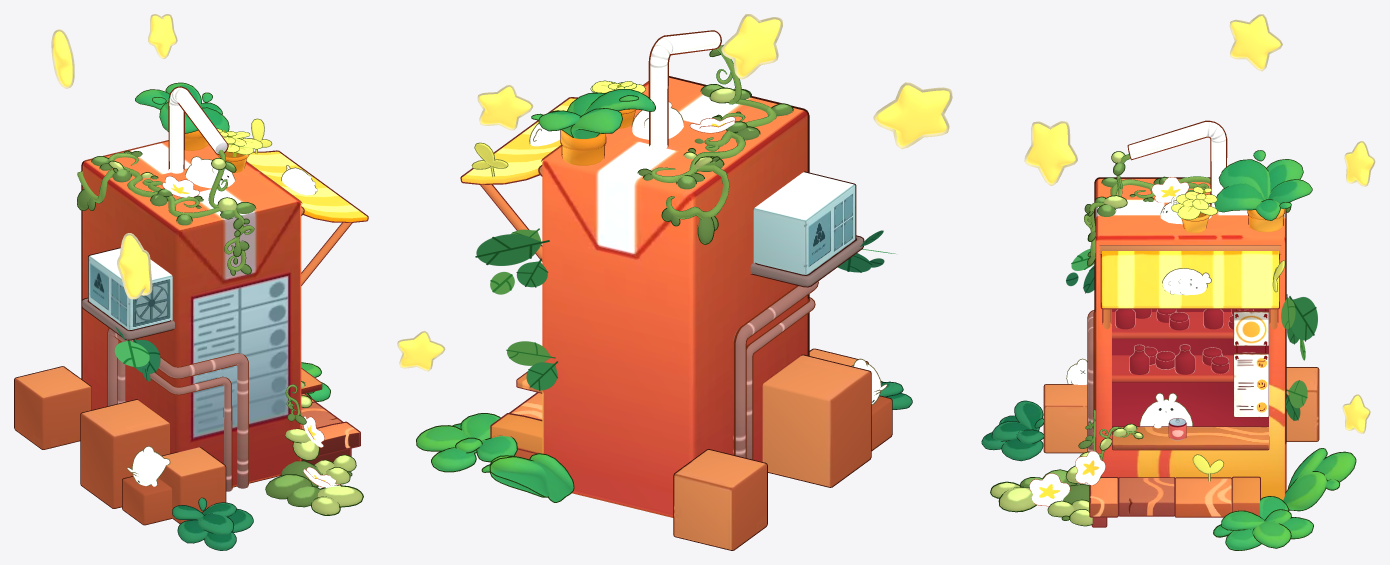
File: shop-transformed.glb
3 views of the same model, side by side, from view 1: azimuth 30°, elevation 25°; view 2: azimuth 150°, elevation 25°; view 3: azimuth 270°, elevation 25° (orthographic). The views are drawn at different scales.
Visible parts, largest first — view 1: Juice_Box, Plant_3, Box.002, Pipeline, Air-conditioning, Box.003, Box.001, Veg_1, Plant_2, Box, Star, Board.001 (+11 smaller); view 2: Juice_Box, Box.002, Air-conditioning, Box.003, Plant_3, Plant_2, Pipeline, Veg_2, Star, Veg_3, Star.003, Star.001 (+8 smaller); view 3: Juice_Box, Plant_3, Plant_2, Veg_2, Box.001, Veg_3, Veg_1, Board.003, Board.002, Star, Box.003, Star.003 (+15 smaller).
Part boxes in pixels (x1=…): Juice_Box: x1=81, y1=86, x2=368, y2=487; Plant_3: x1=77, y1=150, x2=363, y2=515; Box.002: x1=80, y1=399, x2=169, y2=508; Pipeline: x1=107, y1=328, x2=248, y2=491; Air-conditioning: x1=81, y1=247, x2=174, y2=340; Box.003: x1=14, y1=366, x2=91, y2=449; Box.001: x1=159, y1=447, x2=226, y2=523; Veg_1: x1=172, y1=497, x2=253, y2=550; Plant_2: x1=135, y1=82, x2=229, y2=150; Box: x1=122, y1=476, x2=171, y2=525; Star: x1=117, y1=233, x2=152, y2=299; Board.001: x1=301, y1=421, x2=360, y2=464; Juice_Box: x1=460, y1=30, x2=809, y2=517; Box.002: x1=762, y1=354, x2=871, y2=487; Air-conditioning: x1=750, y1=171, x2=864, y2=287; Box.003: x1=673, y1=449, x2=767, y2=550; Plant_3: x1=637, y1=45, x2=793, y2=244; Plant_2: x1=531, y1=89, x2=655, y2=165; Pipeline: x1=733, y1=281, x2=818, y2=459; Veg_2: x1=416, y1=413, x2=517, y2=472; Star: x1=873, y1=82, x2=952, y2=149; Veg_3: x1=481, y1=453, x2=574, y2=502; Star.003: x1=721, y1=14, x2=782, y2=79; Star.001: x1=477, y1=85, x2=533, y2=130; Juice_Box: x1=1094, y1=120, x2=1286, y2=500; Plant_3: x1=990, y1=151, x2=1291, y2=526; Plant_2: x1=1214, y1=150, x2=1312, y2=232; Veg_2: x1=1213, y1=496, x2=1313, y2=550; Box.001: x1=1043, y1=384, x2=1087, y2=453; Veg_3: x1=1283, y1=448, x2=1356, y2=511; Veg_1: x1=981, y1=400, x2=1044, y2=461; Board.003: x1=1174, y1=477, x2=1232, y2=517; Board.002: x1=1118, y1=477, x2=1175, y2=516; Star: x1=1024, y1=121, x2=1077, y2=185; Box.003: x1=1286, y1=367, x2=1319, y2=441; Star.003: x1=1229, y1=14, x2=1282, y2=71.
Size of the model in its own units: 3.26 by 4.15 by 3.52.
Materials: 4 (4 with a texture image).
